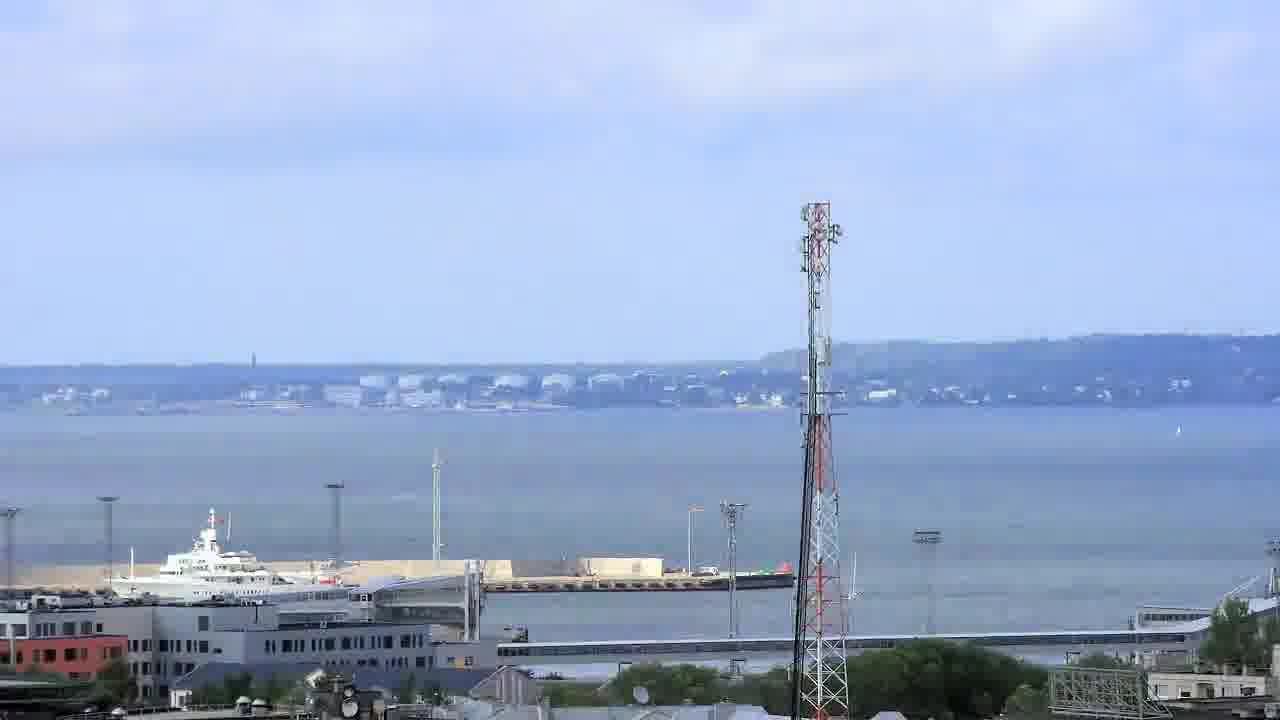type-3: (72, 492, 370, 608)
